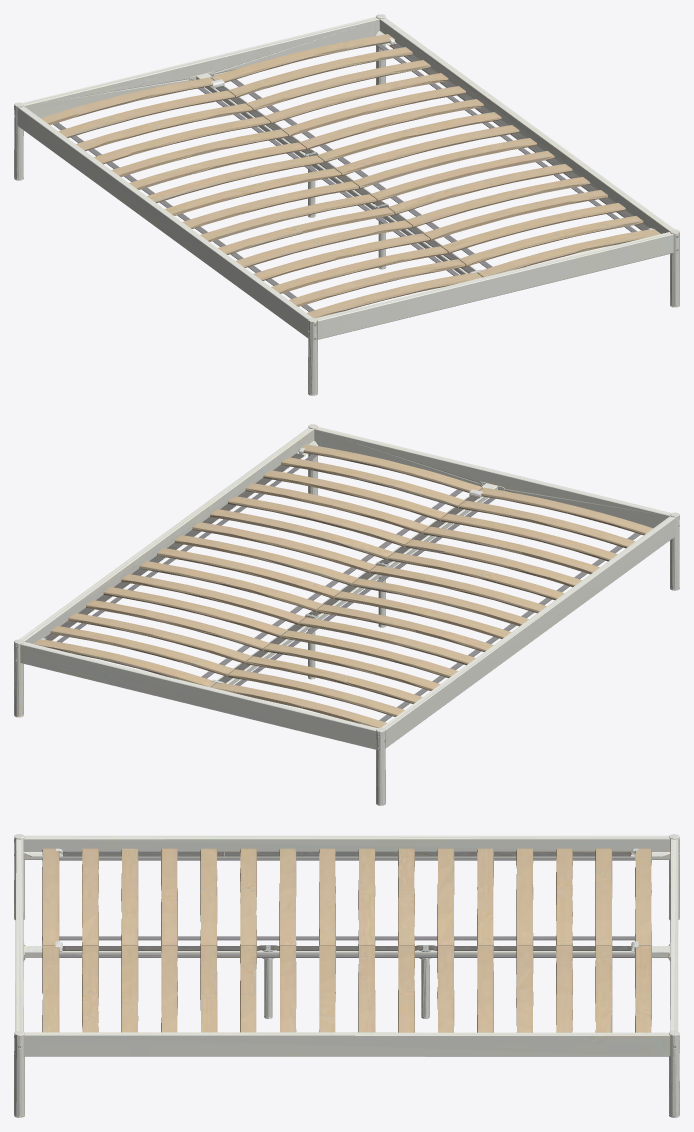
The picture shows the model from 3 angles, top to bottom: view 1: azimuth 30°, elevation 25°; view 2: azimuth 150°, elevation 25°; view 3: azimuth 270°, elevation 25°; orthographic projection. The views are drawn at different scales.
Parts seen in each view (by area): view 1: model; view 2: model; view 3: model.
Boxes of the visible parts, x1=… form: model: x1=14, y1=14, x2=679, y2=395; model: x1=14, y1=424, x2=679, y2=805; model: x1=14, y1=834, x2=679, y2=1117.
Size of the model in its own units: 1.41 by 0.27 by 1.97.
Materials: 1 (1 with a texture image).
